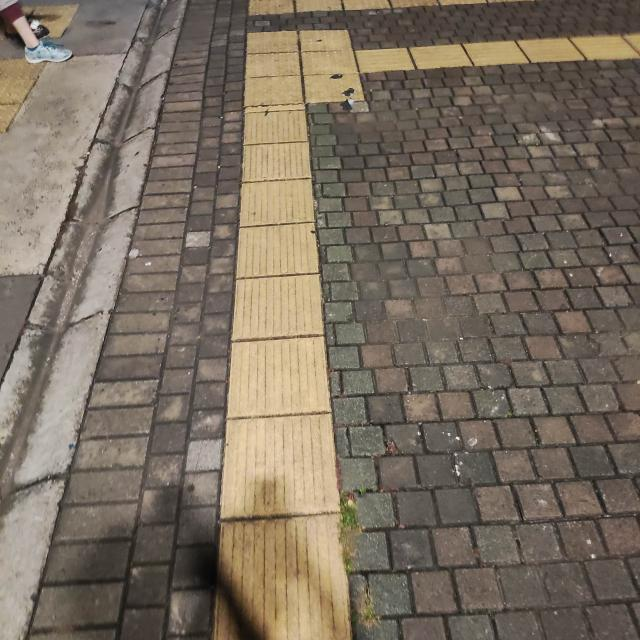kanan: (216, 34, 435, 136)
